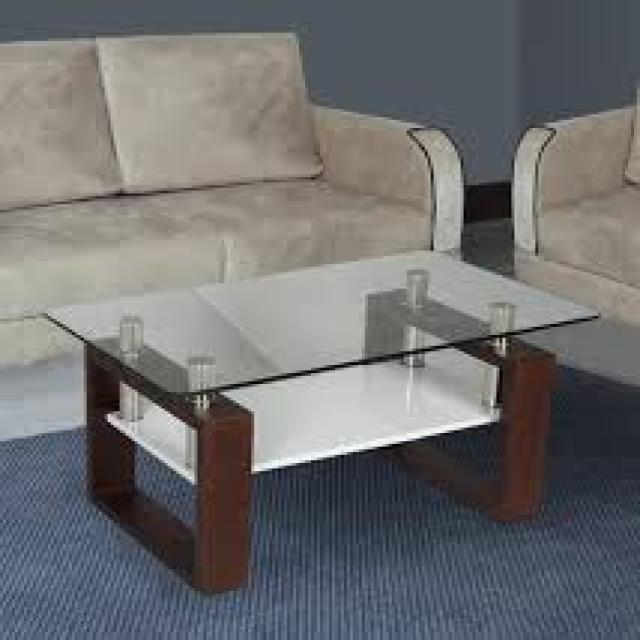obstacle: (34, 232, 636, 625)
